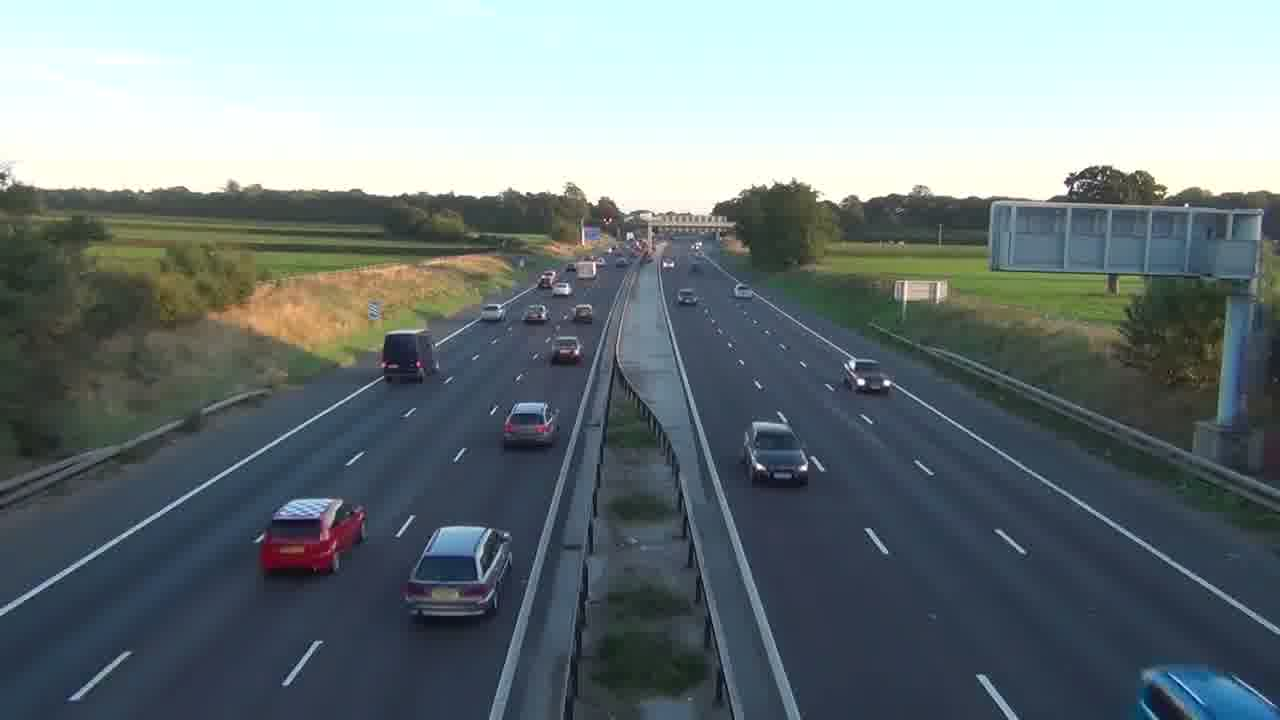car: (400, 524, 513, 624), (1131, 664, 1279, 719), (741, 420, 811, 487), (501, 400, 561, 449), (842, 357, 893, 393), (550, 334, 583, 366), (524, 305, 549, 324), (573, 303, 594, 324)
truck: (254, 495, 368, 576), (381, 329, 438, 384)
